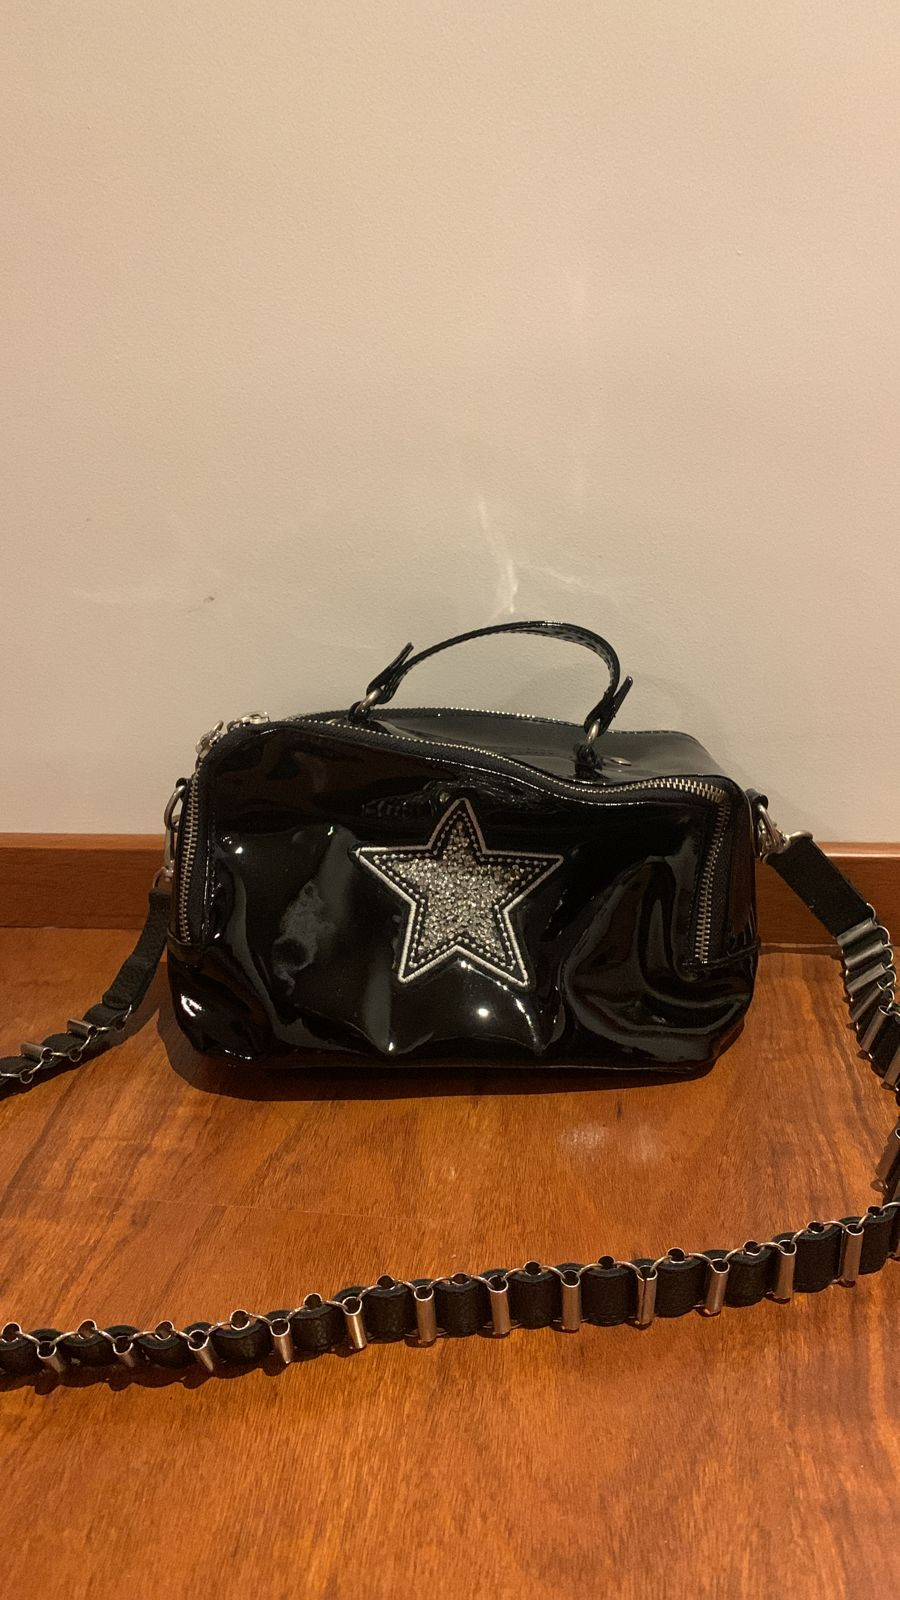cartera: (7, 598, 900, 1403)
lona: (244, 773, 684, 1043)
